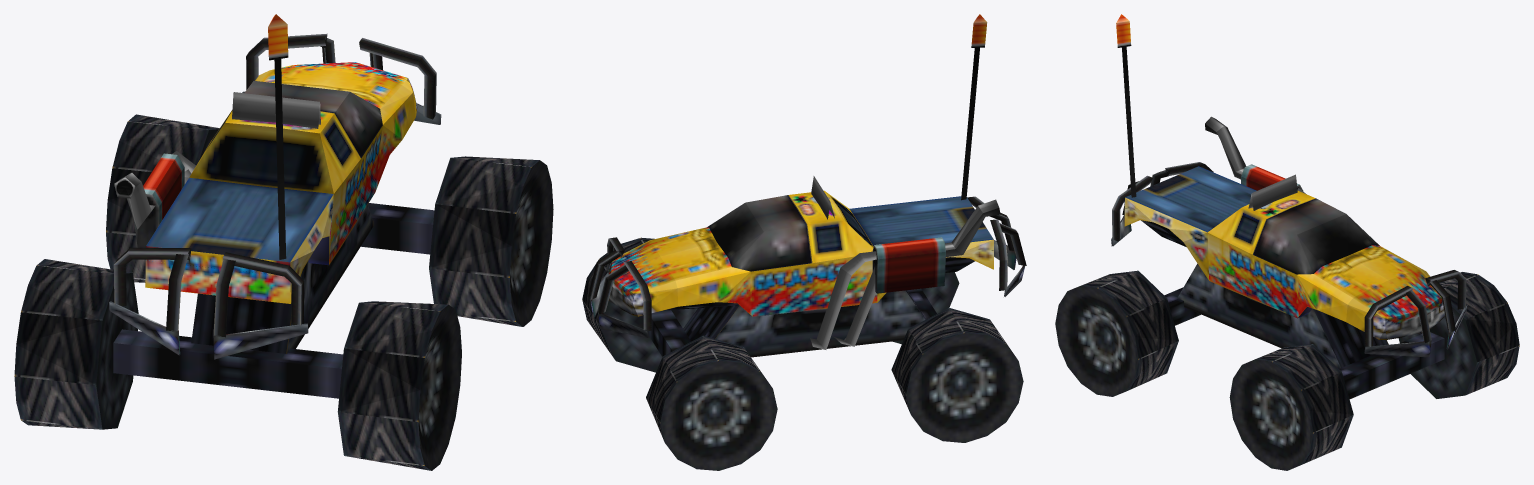
Rendered from smcar.ico.obj.
3 renders of one model, left to right at view 1: azimuth 30°, elevation 25°; view 2: azimuth 150°, elevation 25°; view 3: azimuth 270°, elevation 25°, orthographic. The views are drawn at different scales.
Size of the model in its own units: 4.35 by 3.43 by 4.35.
Materials: 1 (1 with a texture image).
